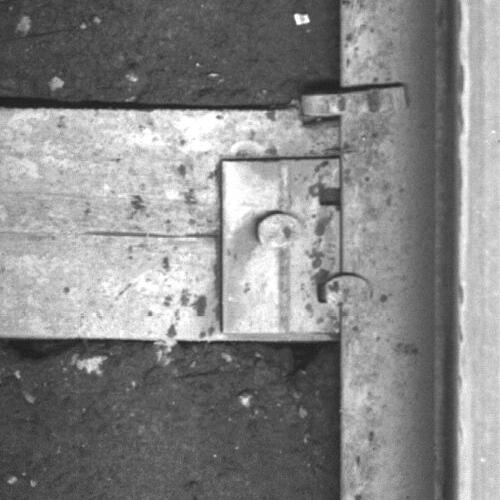crutch: (302, 82, 412, 119)
do: (222, 159, 372, 333)
hole_do: (312, 178, 350, 214)
rail: (454, 1, 500, 500)
tie_wood: (1, 106, 340, 346)
wood_crack: (82, 224, 225, 247)
